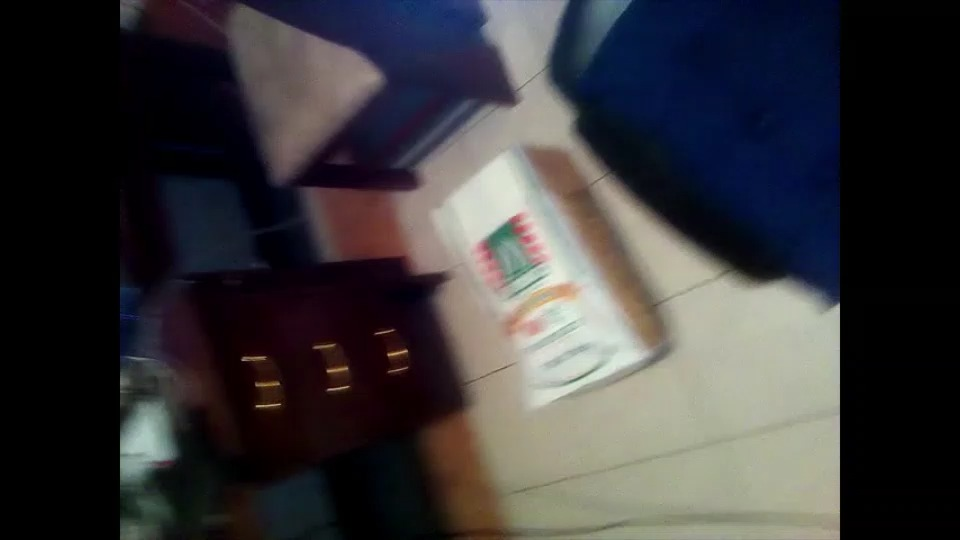maize_flour_green_label: (433, 147, 671, 405)
